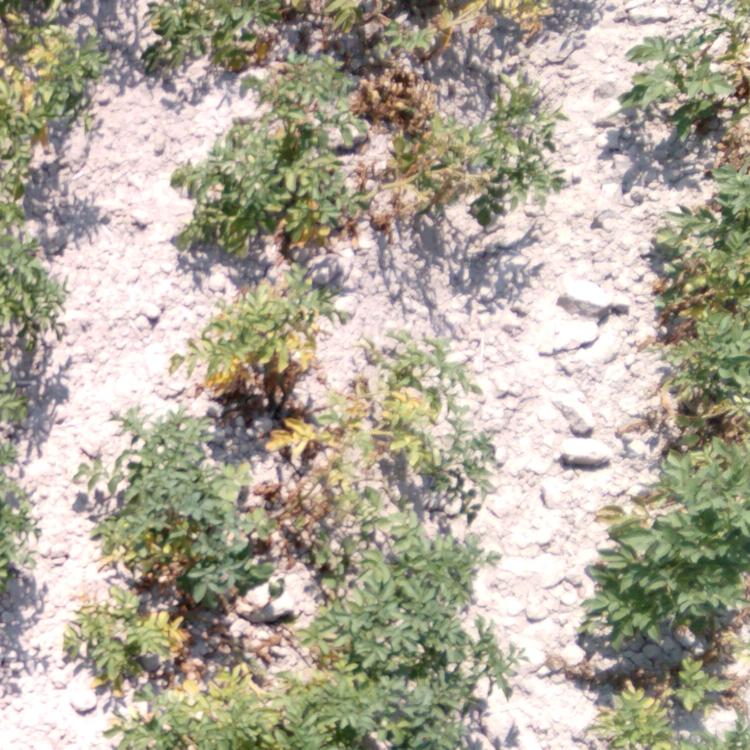healthy: (315, 570, 516, 671), (580, 540, 750, 659), (609, 33, 732, 138), (87, 417, 218, 515), (642, 444, 750, 539), (1, 224, 66, 362), (1, 364, 39, 585), (389, 674, 484, 747), (209, 525, 262, 599)
stressed: (188, 70, 356, 282), (262, 416, 481, 569), (363, 58, 556, 220), (651, 161, 750, 437), (107, 674, 390, 748), (1, 1, 89, 229), (76, 522, 206, 669), (198, 286, 318, 415), (196, 284, 316, 413), (582, 658, 750, 750), (147, 1, 363, 69), (315, 342, 451, 416), (367, 1, 558, 52)
